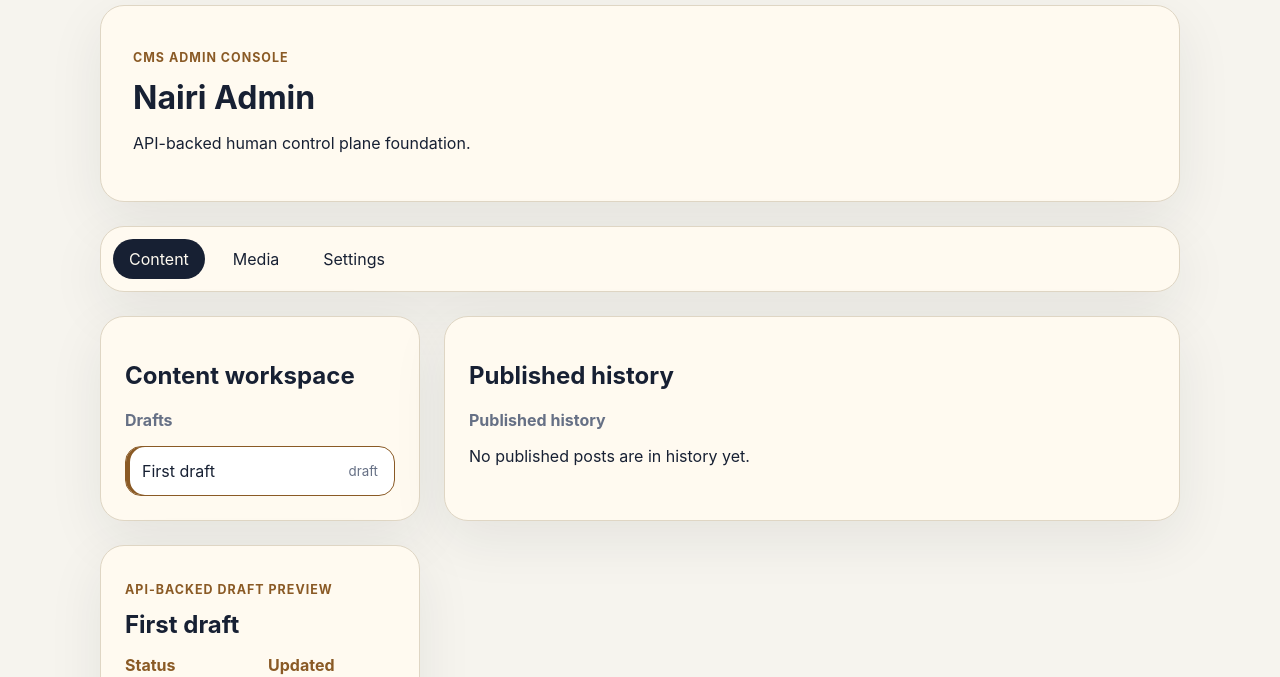
Test: Nairi admin console shell › hides publish confirmation controls when publish review request creation fails
Click the button "First draft draft": (178, 471) [125,446,395,496]
(page scrolled)
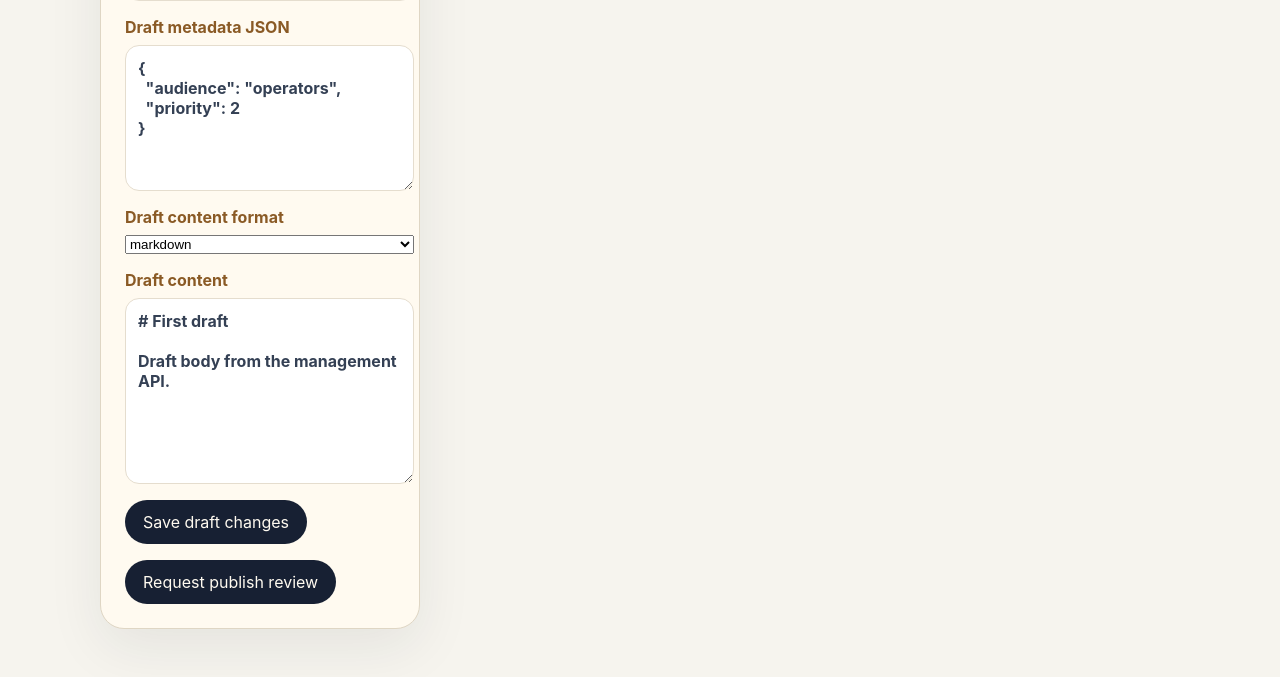
Click the button "Request publish review": (231, 582) [125,560,336,604]
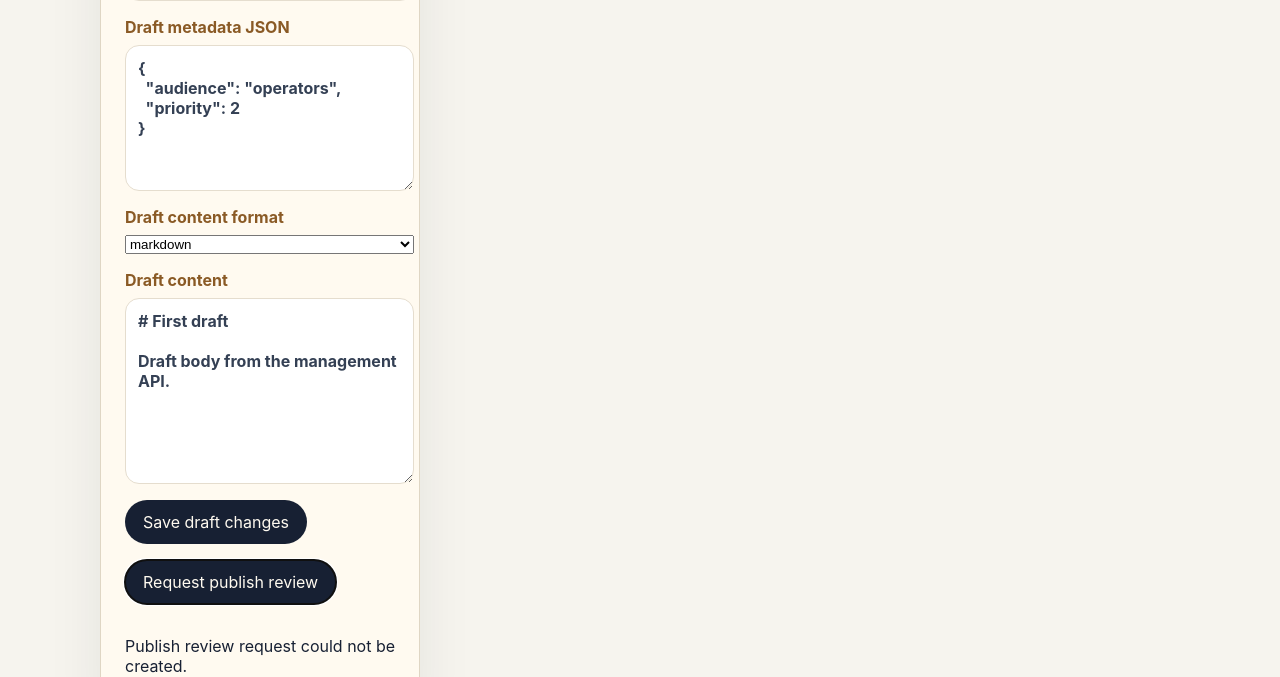
Expected: the message named "Publish review request status" reads "Publish review request could not be created.", [125,636,395,676]
